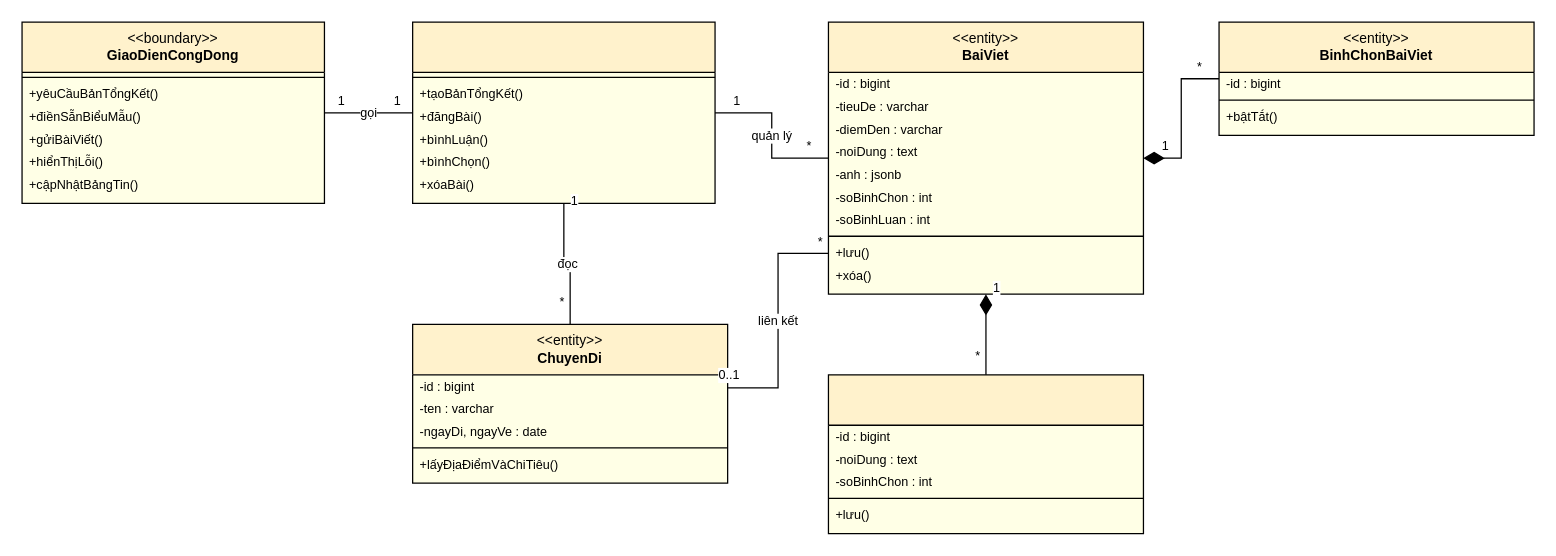
This 1556x556 diagram has some shape labels left out. The box of each missing label's shape, as (x1, y1, x2, y2) in pixels:
<<control>> DieuKhienBaiViet: (411, 21, 715, 203)
<<entity>> BinhLuan: (827, 374, 1143, 534)
